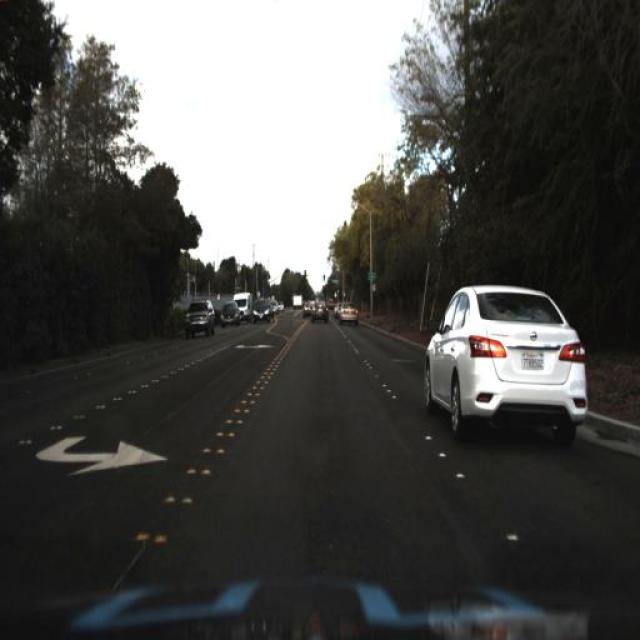car: (413, 281, 599, 457), (178, 294, 216, 342), (213, 298, 243, 334), (338, 296, 362, 330), (230, 289, 252, 323), (306, 296, 329, 326), (250, 296, 274, 323)
